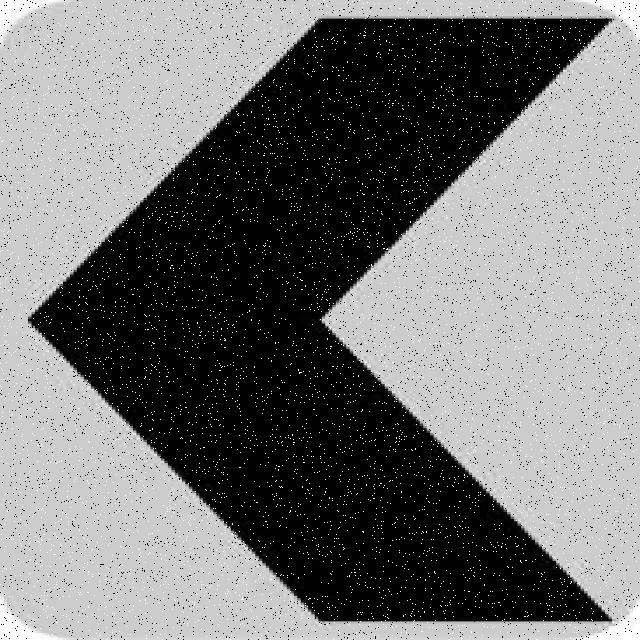chevron_left: (28, 20, 614, 625)
